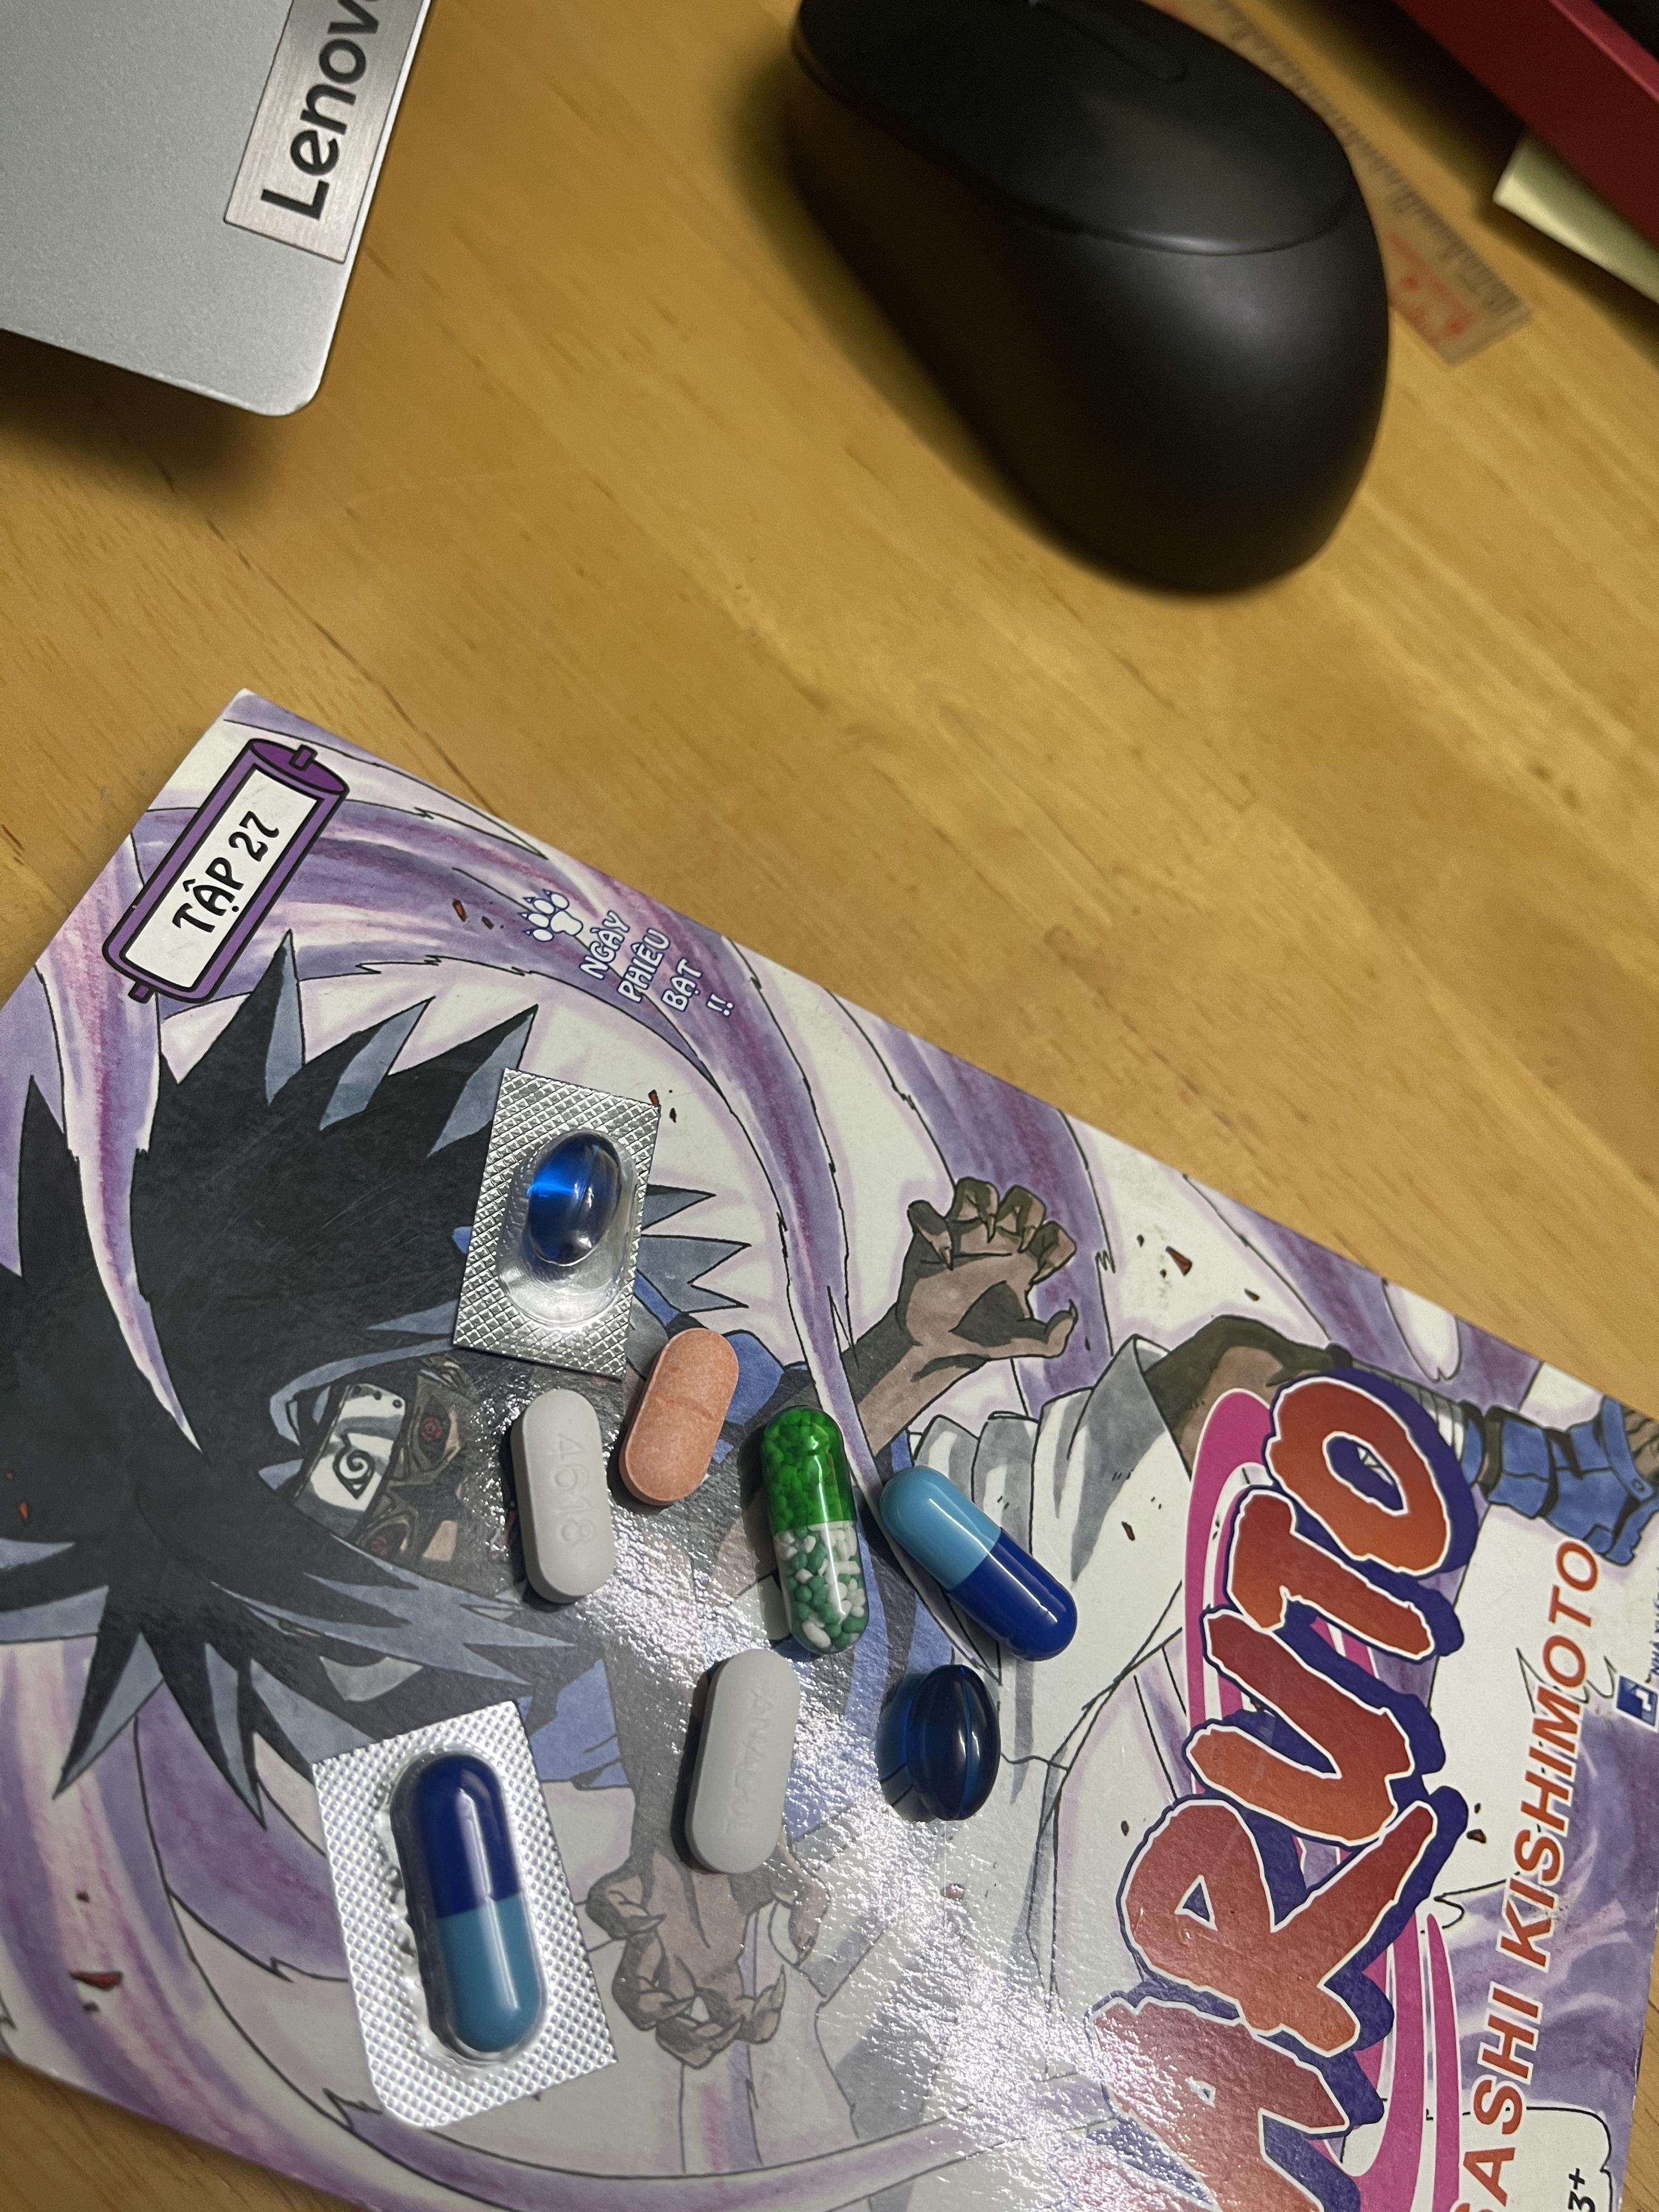Lincomyxin_500mg: (892, 1663, 1002, 1824), (523, 1136, 613, 1268)
Loratadine_10mg: (619, 1329, 741, 1501)
Paracetamol_350mg: (681, 1649, 803, 1876)
Paracetamol_500mg: (512, 1386, 619, 1606)
Paracetamol_650mg: (758, 1409, 866, 1649)
pill: (403, 1761, 545, 2060), (880, 1468, 1073, 1658)
